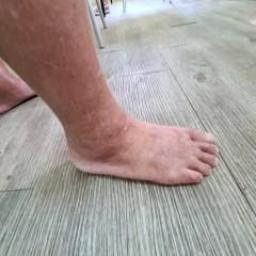Lateral View -Right Foot-: (42, 86, 236, 212)
